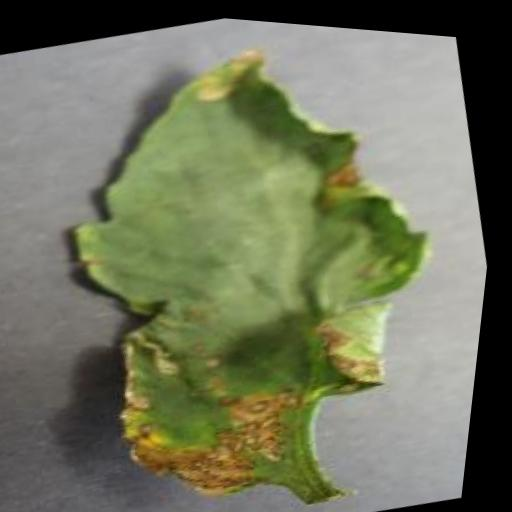Bacterial Spot: (8, 3, 502, 512)
